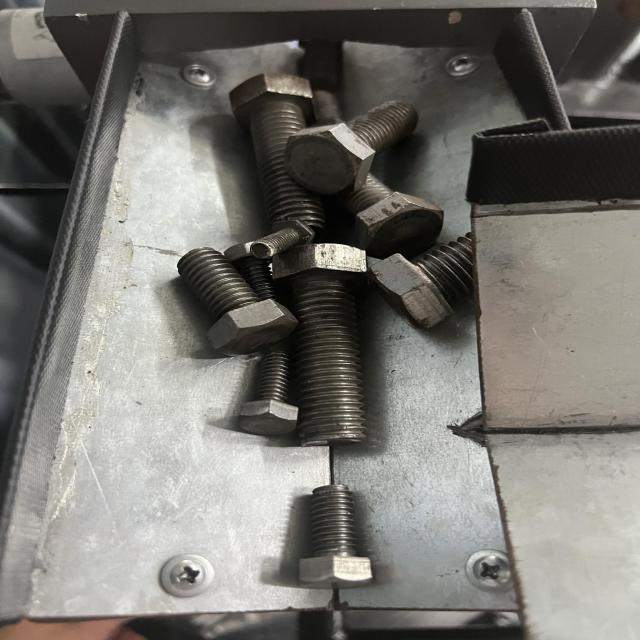bolt: (267, 243, 379, 444), (176, 247, 298, 358), (299, 484, 373, 586)
